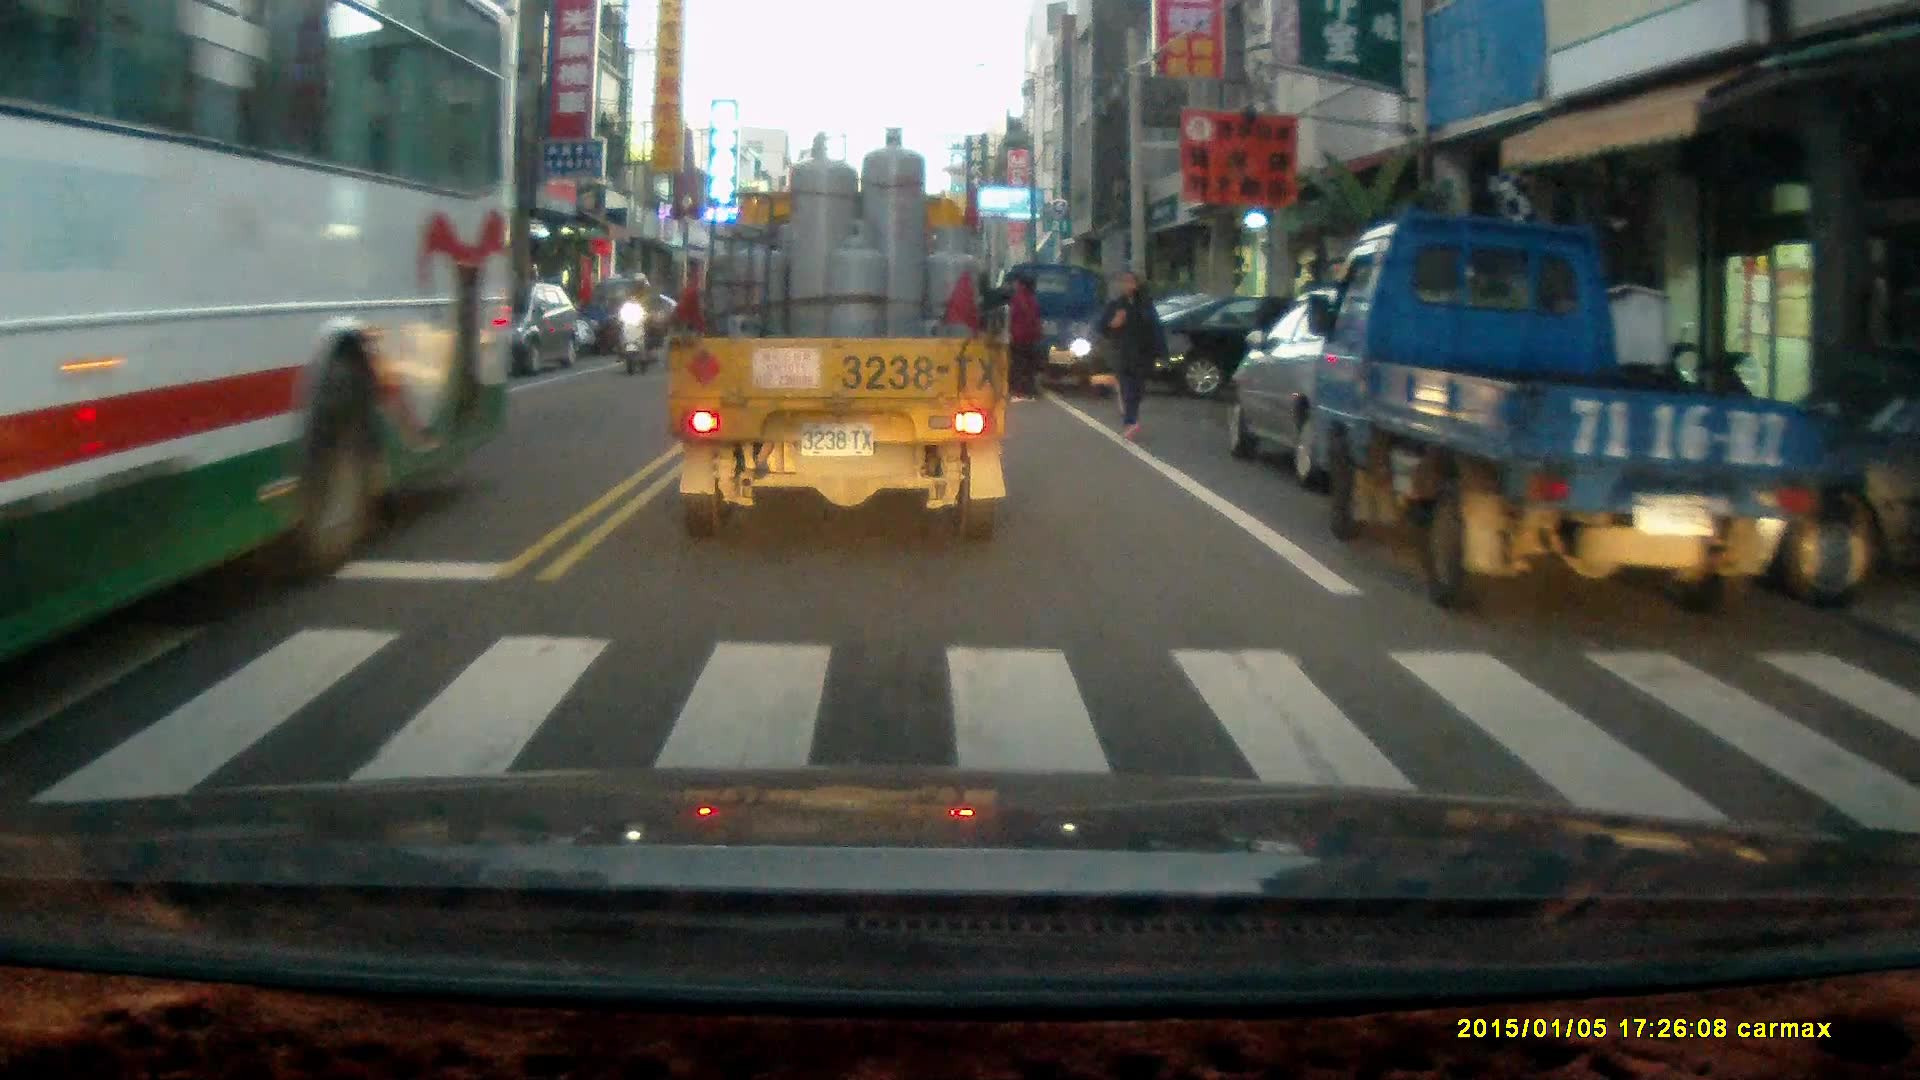pedestrian: (1099, 269, 1166, 439), (1004, 272, 1040, 402)
rider: (616, 269, 660, 377)
vehicle: (1, 2, 520, 674), (1305, 209, 1811, 619), (667, 125, 1015, 546), (1222, 281, 1523, 497), (1141, 287, 1394, 406), (994, 261, 1127, 397), (455, 281, 583, 377), (578, 277, 670, 360)
